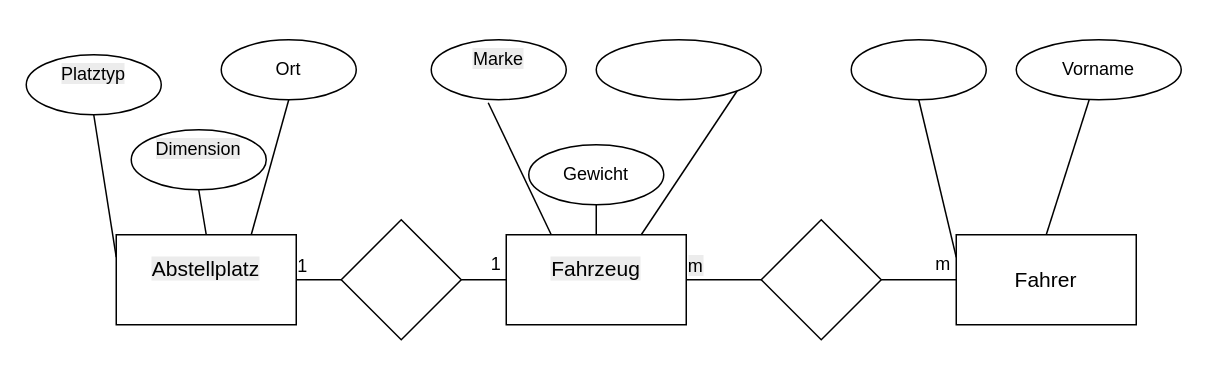
This 1208x366 diagram has some shape labels left out. Each missing label, with the centre of its shape:
faehrt: the point at 820,279
Fahrzeugnummer: the point at 678,69
Name: the point at 918,69
parkiert: the point at 400,279
